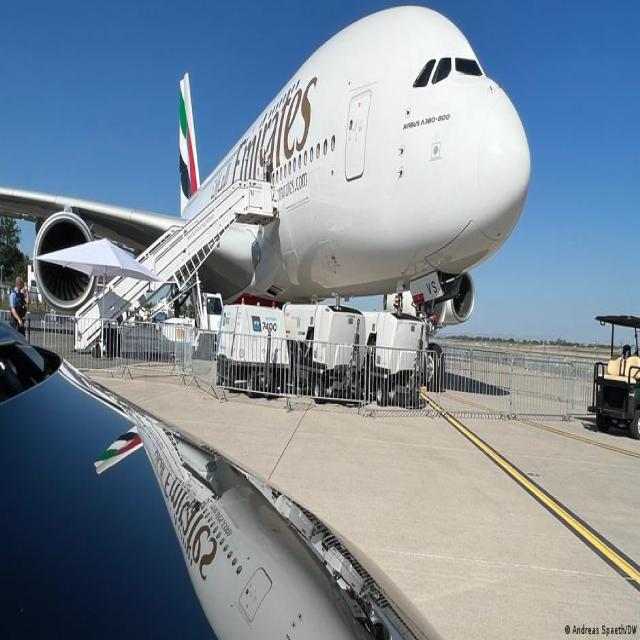A380: (3, 1, 531, 407)
